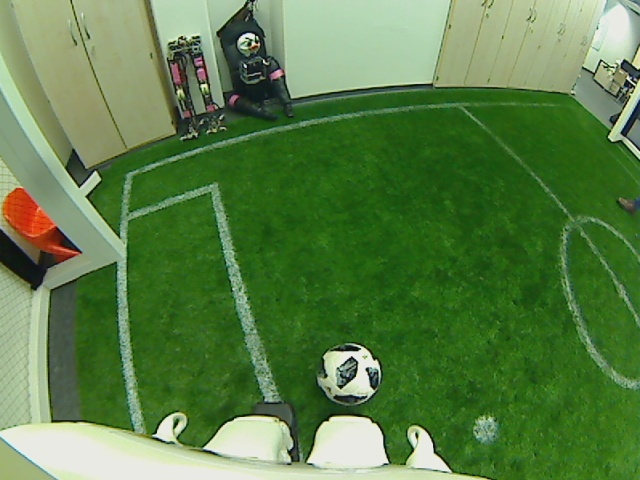ball: (315, 340, 384, 406)
